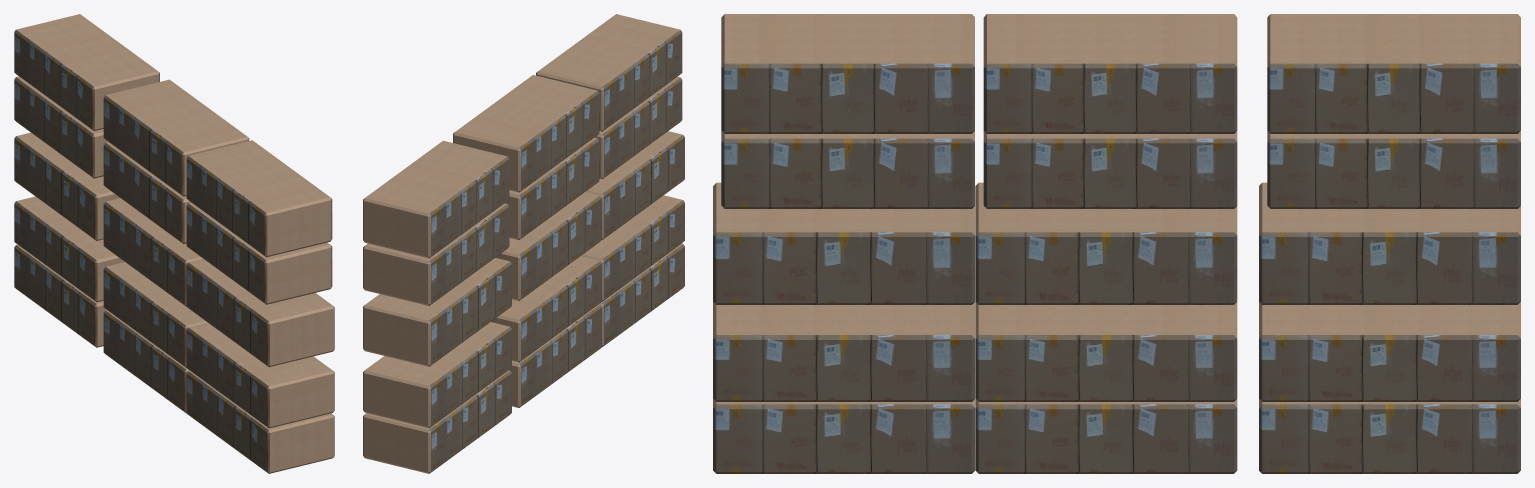
Rendered from jinho.FBX.
3 renders of one model, left to right at view 1: azimuth 30°, elevation 25°; view 2: azimuth 150°, elevation 25°; view 3: azimuth 270°, elevation 25°, orthographic. The views are drawn at different scales.
Visible parts, largest first — view 1: Box9096; view 2: Box9096; view 3: Box9096.
Part boxes in pixels (x1=…): Box9096: x1=14, y1=14, x2=334, y2=473; Box9096: x1=363, y1=14, x2=684, y2=473; Box9096: x1=713, y1=14, x2=1520, y2=473.
Size of the model in its own units: 0.7354 by 4.8 by 2.69.
